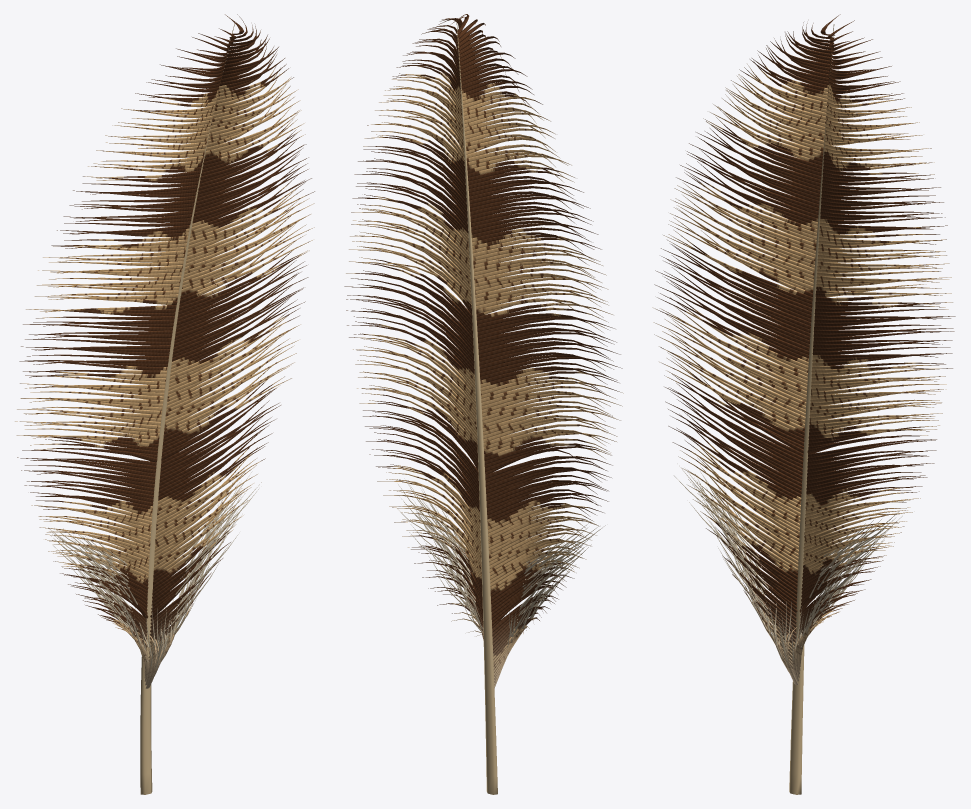
The model's file is bustard_plume.glb.
The picture shows the model from 3 angles, left to right: view 1: azimuth 30°, elevation 25°; view 2: azimuth 150°, elevation 25°; view 3: azimuth 330°, elevation 25°; orthographic projection. The views are drawn at different scales.
Parts seen in each view (by area): view 1: bustard_plume keratin vane, Soft branching basal filaments, Ivory keratin rachis; view 2: bustard_plume keratin vane, Ivory keratin rachis, Soft branching basal filaments; view 3: bustard_plume keratin vane, Soft branching basal filaments, Ivory keratin rachis.
Boxes of the visible parts, <box> form: bustard_plume keratin vane: <box>15,14,314,688</box>; Soft branching basal filaments: <box>48,472,261,668</box>; Ivory keratin rachis: <box>140,23,234,794</box>; bustard_plume keratin vane: <box>344,14,623,688</box>; Ivory keratin rachis: <box>456,21,497,794</box>; Soft branching basal filaments: <box>396,484,605,647</box>; bustard_plume keratin vane: <box>652,14,955,684</box>; Soft branching basal filaments: <box>674,466,902,663</box>; Ivory keratin rachis: <box>789,24,834,794</box>.
Size of the model in its own units: 0.1112 by 0.2913 by 0.0309.
Materials: 3 (1 with a texture image).
